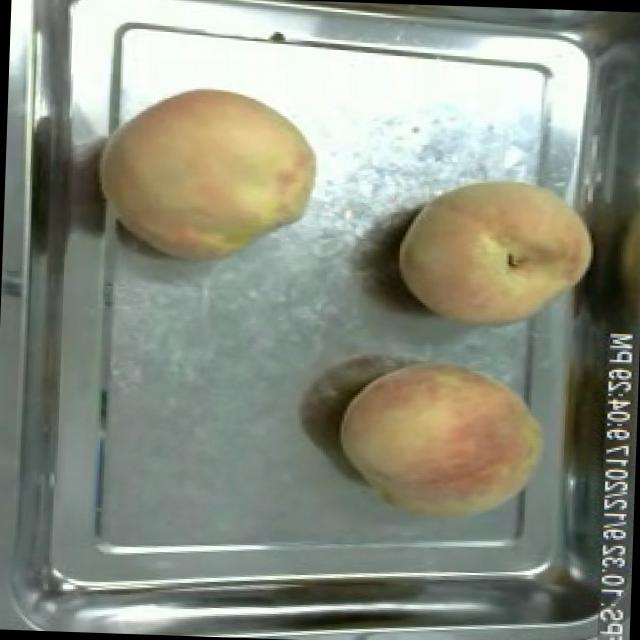Fruit: (89, 76, 325, 274), (328, 348, 558, 534), (386, 164, 608, 340)
